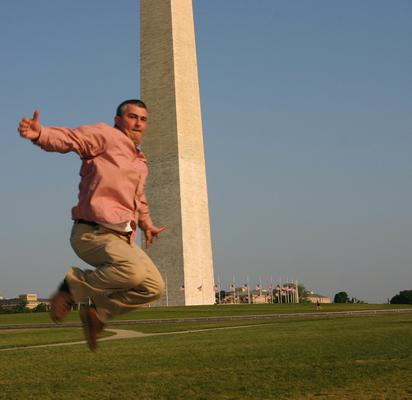person: (19, 95, 169, 350)
